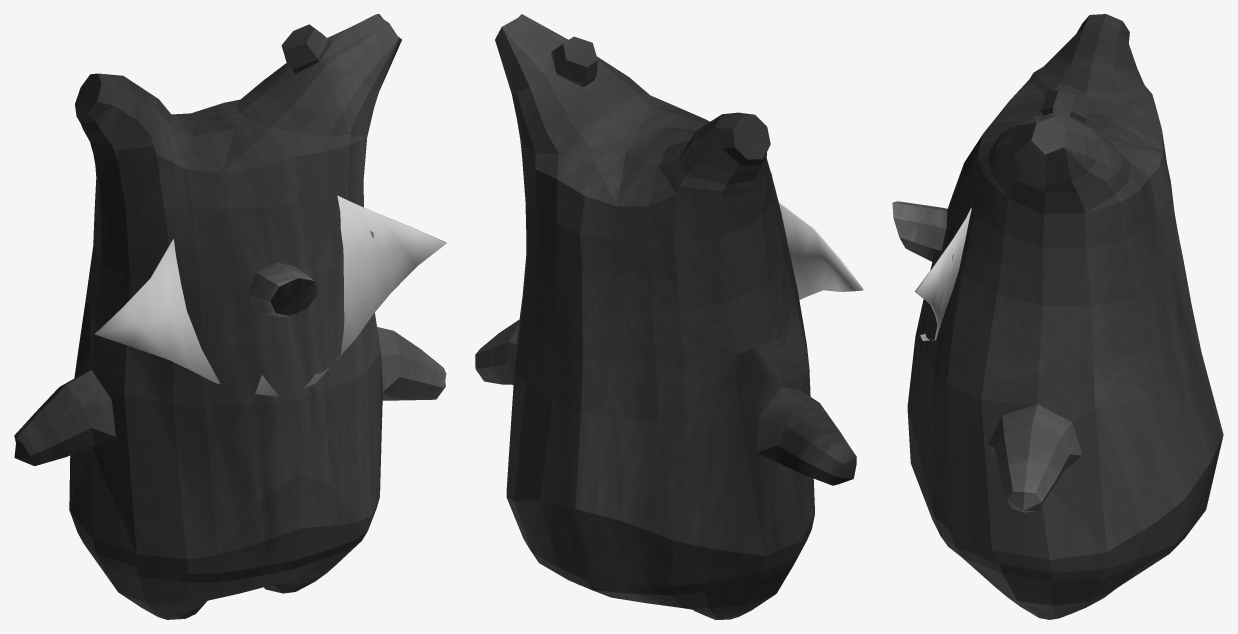
Rendered from frame_0096.obj.
3 views of the same model, side by side, from view 1: azimuth 30°, elevation 25°; view 2: azimuth 150°, elevation 25°; view 3: azimuth 270°, elevation 25° (orthographic).
Visible parts, largest first — view 1: korok, leaf, nose; view 2: korok, leaf; view 3: korok, nose, leaf.
Part boxes in pixels (bbox=[...]): korok: bbox=[14, 14, 446, 619]; leaf: bbox=[95, 195, 446, 396]; nose: bbox=[248, 262, 317, 318]; korok: bbox=[475, 14, 856, 619]; leaf: bbox=[778, 202, 863, 299]; korok: bbox=[907, 14, 1223, 619]; nose: bbox=[892, 201, 947, 262]; leaf: bbox=[915, 207, 971, 340].
Size of the model in its own units: 1.69 by 2.21 by 1.22.
